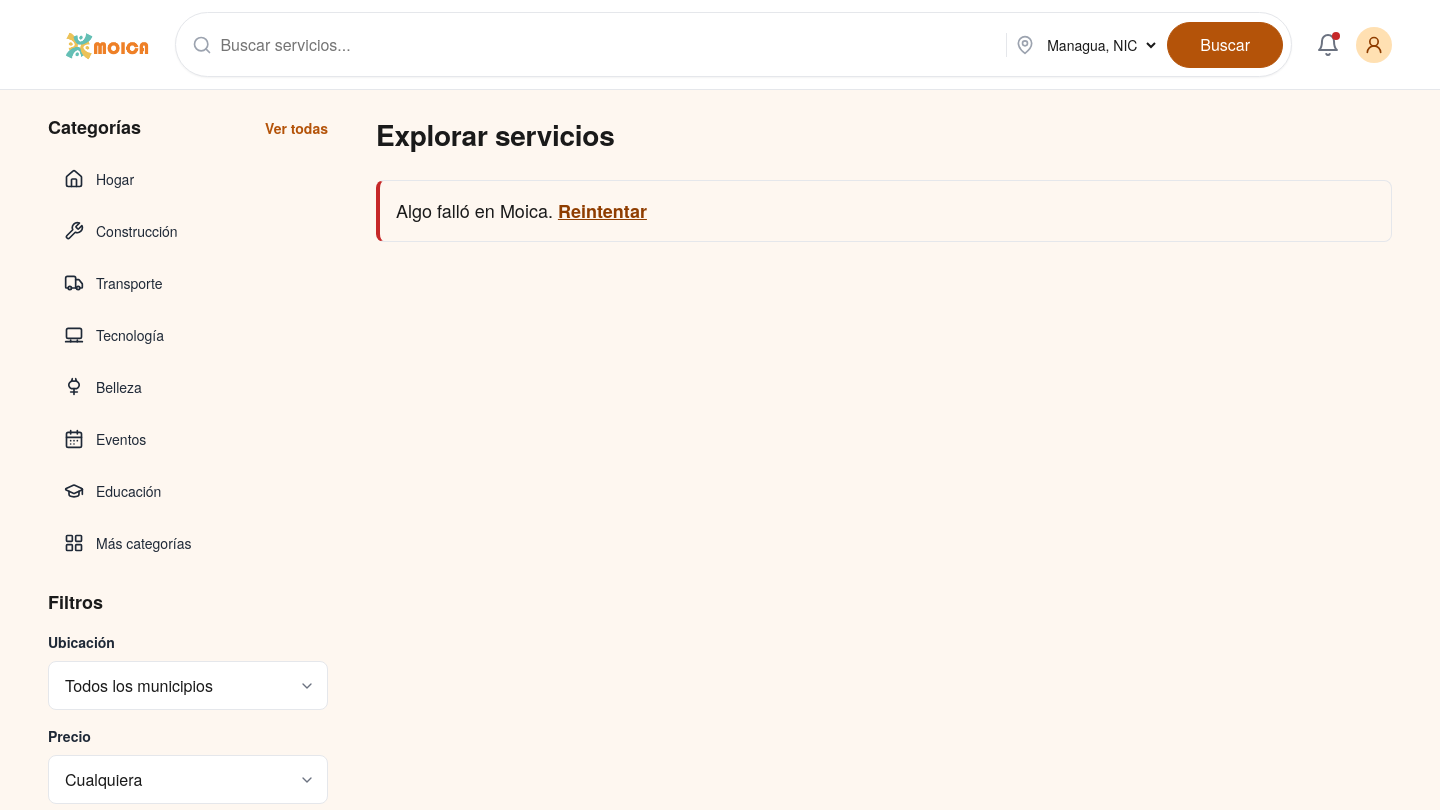
Test: Explorar servicios › muestra el error y permite reintentar
The width and height of the screenshot is (1440, 810).
Expected: the message shows "Algo falló en Moica.", 396,197 -> 553,223
Click the button "Reintentar": (602, 212) 558,198 -> 647,225
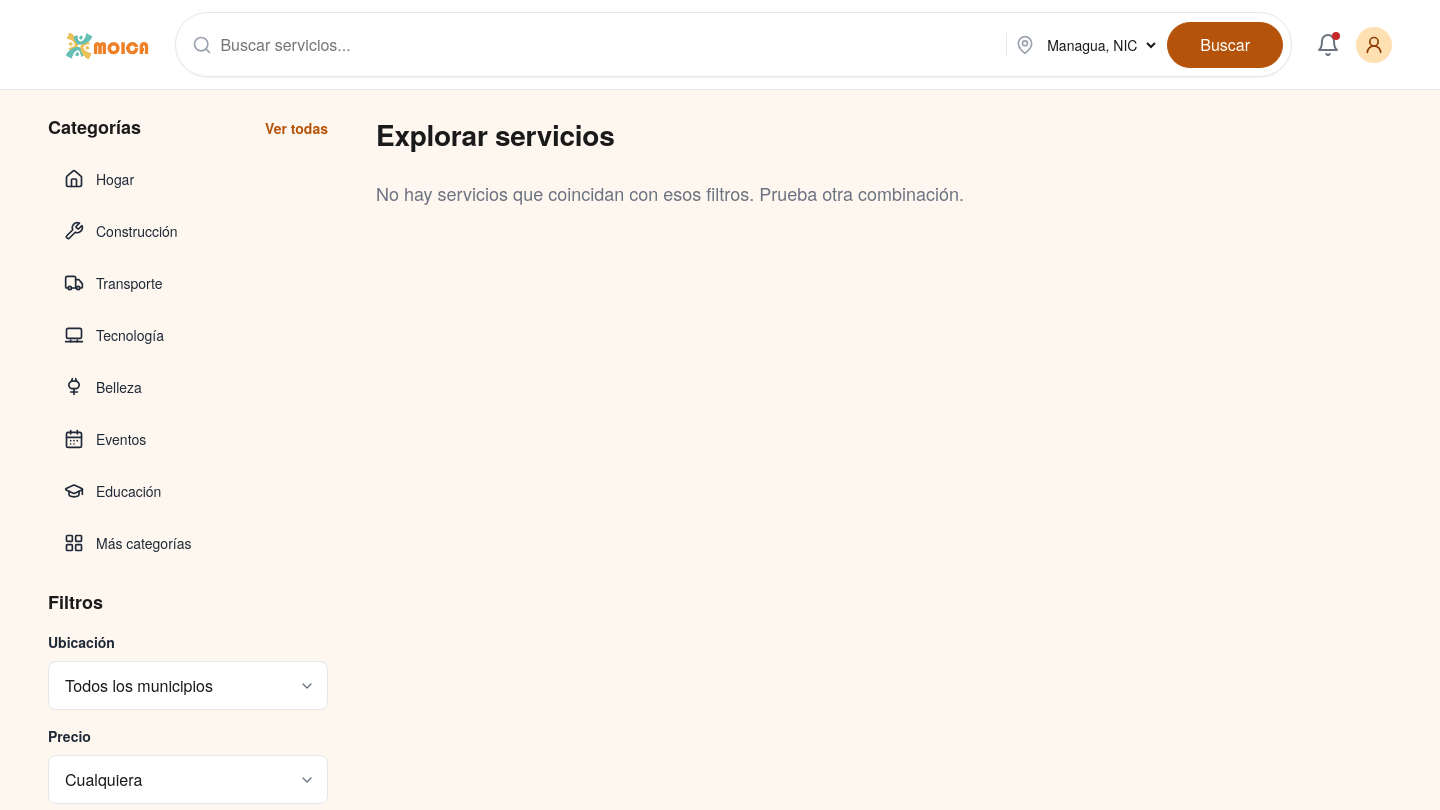
Result: the text "No hay servicios que coincidan" is shown at 376,180 -> 964,206
